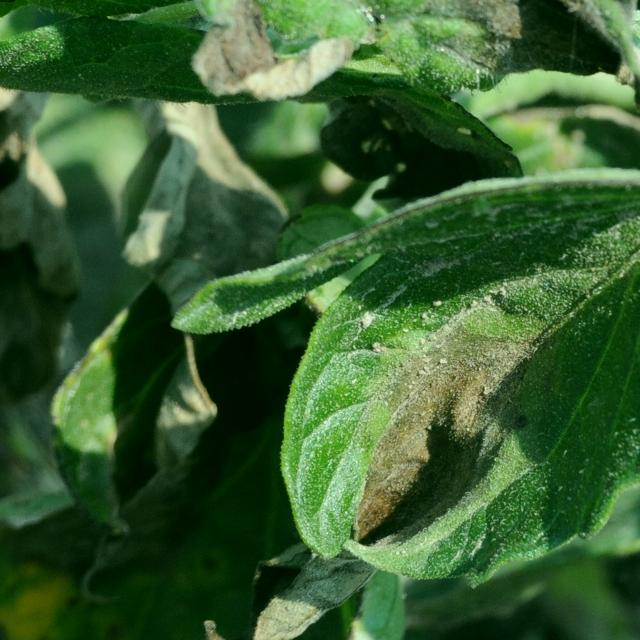Tomato leaf late blight: (244, 163, 640, 636), (126, 0, 624, 135)
